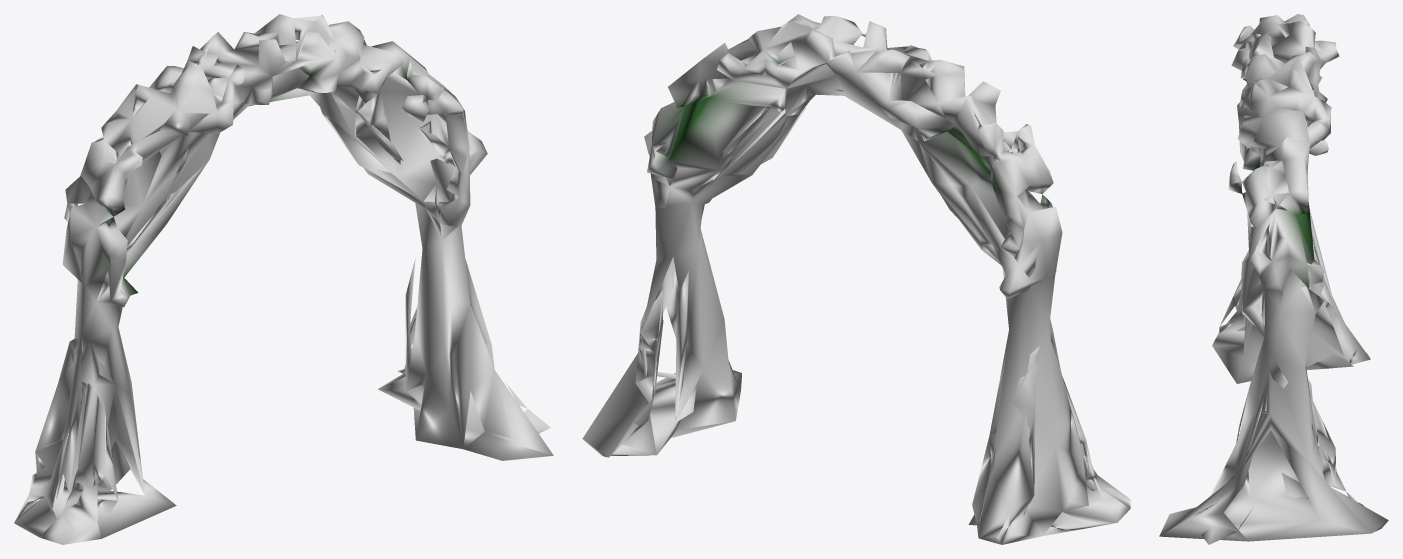
File: gen3d-wedding-arch-lod1.glb
3 views of the same model, side by side, from view 1: azimuth 30°, elevation 25°; view 2: azimuth 150°, elevation 25°; view 3: azimuth 270°, elevation 25° (orthographic). The views are drawn at different scales.
Parts seen in each view (by area): view 1: part_0; view 2: part_0; view 3: part_0.
Boxes of the visible parts, <box> form: part_0: <box>14,14,553,544</box>; part_0: <box>582,14,1130,544</box>; part_0: <box>1159,14,1388,544</box>.
Bounding box in the file's own units: 1.21 × 0.9978 × 0.5191.
